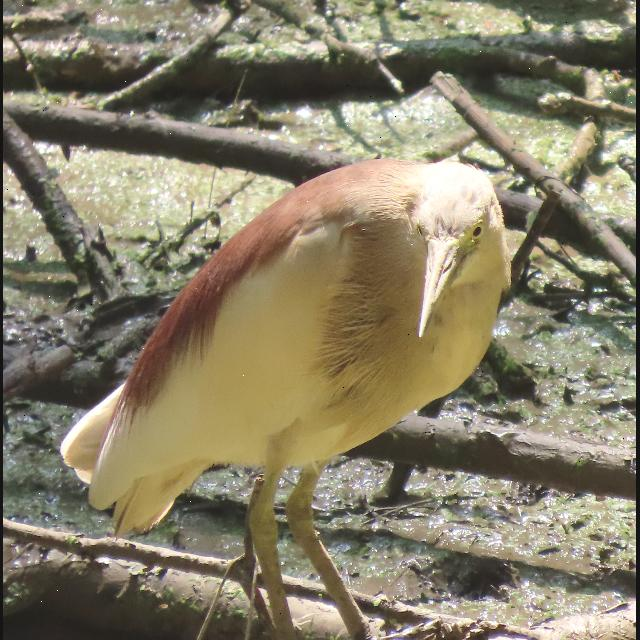heron: (66, 161, 526, 635)
